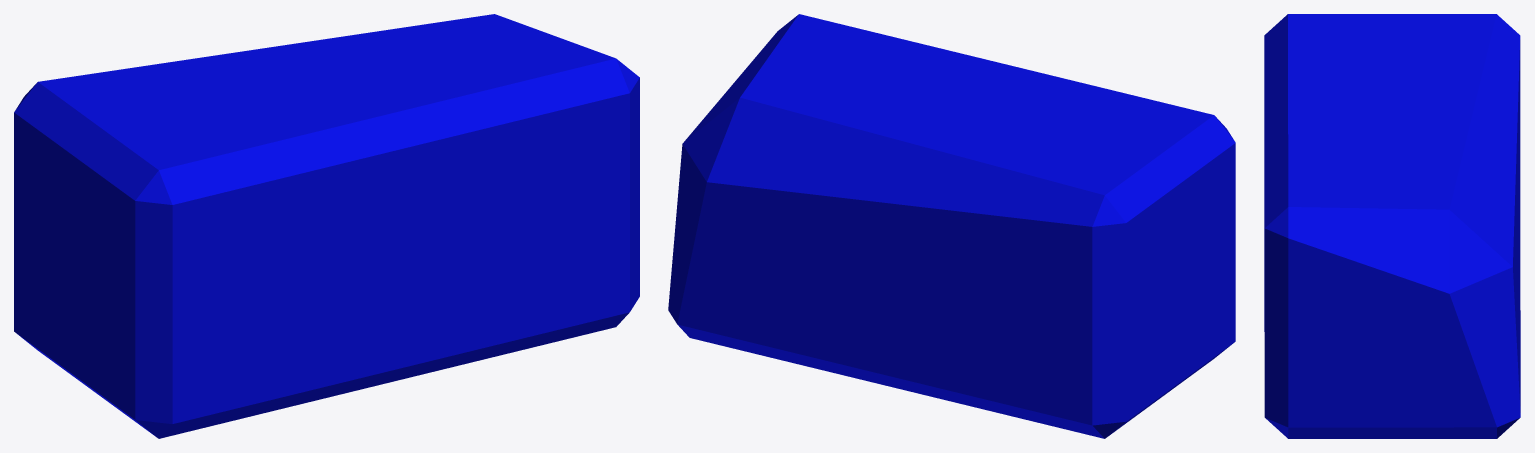
The model's file is SM_Small_QuarryStone2.fbx.
3 views of the same model, side by side, from view 1: azimuth 30°, elevation 25°; view 2: azimuth 150°, elevation 25°; view 3: azimuth 270°, elevation 25° (orthographic). The views are drawn at different scales.
Parts seen in each view (by area): view 1: SM_Small_QuarryStone2; view 2: SM_Small_QuarryStone2; view 3: SM_Small_QuarryStone2.
Boxes of the visible parts, left/top/right/bottom form: SM_Small_QuarryStone2: left=14, top=14, right=639, bottom=438; SM_Small_QuarryStone2: left=668, top=14, right=1235, bottom=438; SM_Small_QuarryStone2: left=1264, top=14, right=1520, bottom=438.
Size of the model in its own units: 69.49 by 34.52 by 34.58.
